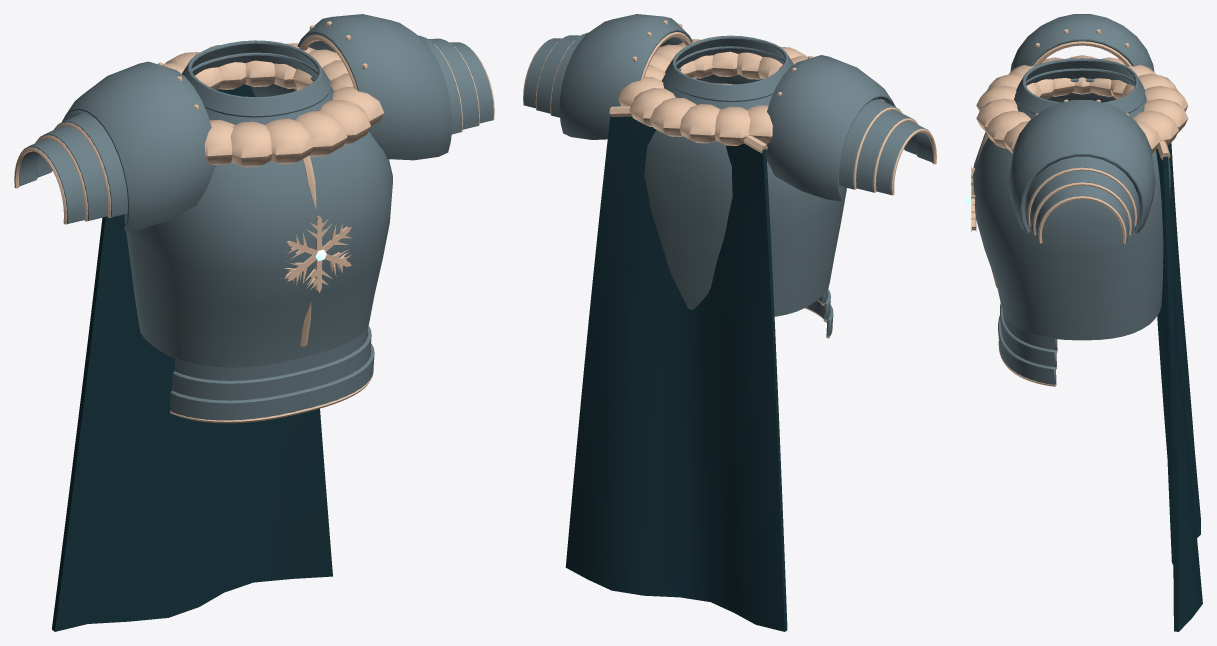
The model's file is asc_everlasting_bulwark_armor.glb.
The picture shows the model from 3 angles, left to right: view 1: azimuth 30°, elevation 25°; view 2: azimuth 150°, elevation 25°; view 3: azimuth 270°, elevation 25°; orthographic projection. The views are drawn at different scales.
Visible parts, largest first — view 1: asc_everlasting_bulwark_armor, AT_upper_arm_R, AT_upper_arm_L; view 2: asc_everlasting_bulwark_armor, AT_upper_arm_R, AT_upper_arm_L; view 3: asc_everlasting_bulwark_armor, AT_upper_arm_L, AT_upper_arm_R.
Boxes of the visible parts, x1,y1,x2,y2 form: asc_everlasting_bulwark_armor: [52, 40, 392, 631]; AT_upper_arm_R: [14, 61, 215, 230]; AT_upper_arm_L: [294, 14, 494, 160]; asc_everlasting_bulwark_armor: [565, 35, 883, 631]; AT_upper_arm_R: [766, 55, 936, 200]; AT_upper_arm_L: [523, 14, 696, 139]; asc_everlasting_bulwark_armor: [965, 55, 1202, 631]; AT_upper_arm_L: [1009, 99, 1155, 243]; AT_upper_arm_R: [1010, 14, 1154, 71].
Bounding box in the file's own units: 0.9688 × 1.3 × 0.5435.
